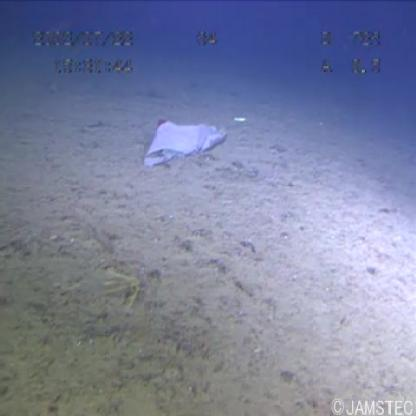Rác: (132, 109, 230, 185)
